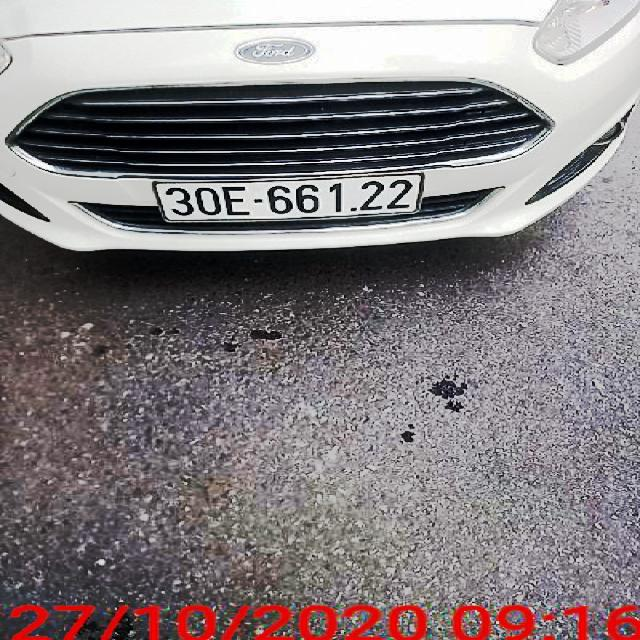license_plate: (153, 172, 427, 221)
